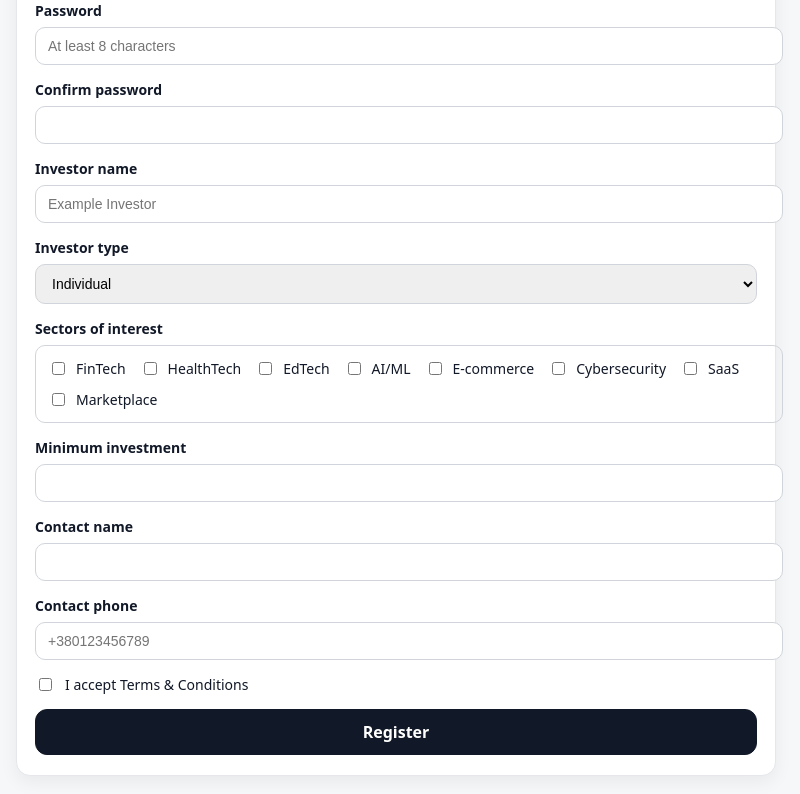
RegisterInvestor › prevents submit when invalid and shows inline errors on submit
The image size is (800, 794).
(page scrolled)
Click the button "Register": coordinates (396, 732) [35,709,757,755]
(page scrolled)
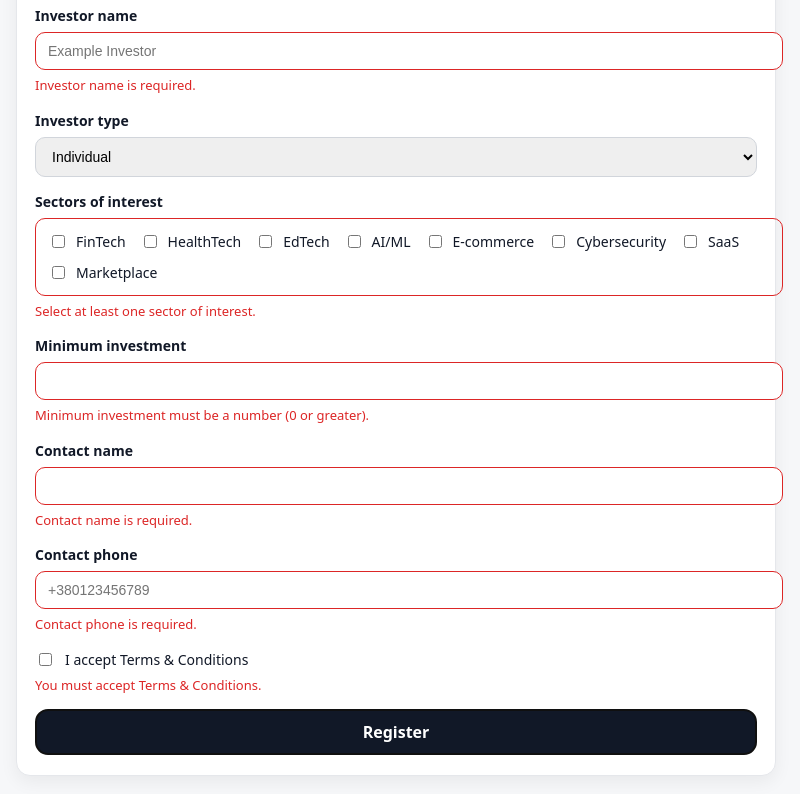
Now the text "Investor name is required." is shown, box [35,76,196,94]
Now the text "Select at least one sector of interest." is shown, box [35,302,256,320]
Now the text "Minimum investment must be a number (0 or greater)." is shown, box [35,406,369,424]
